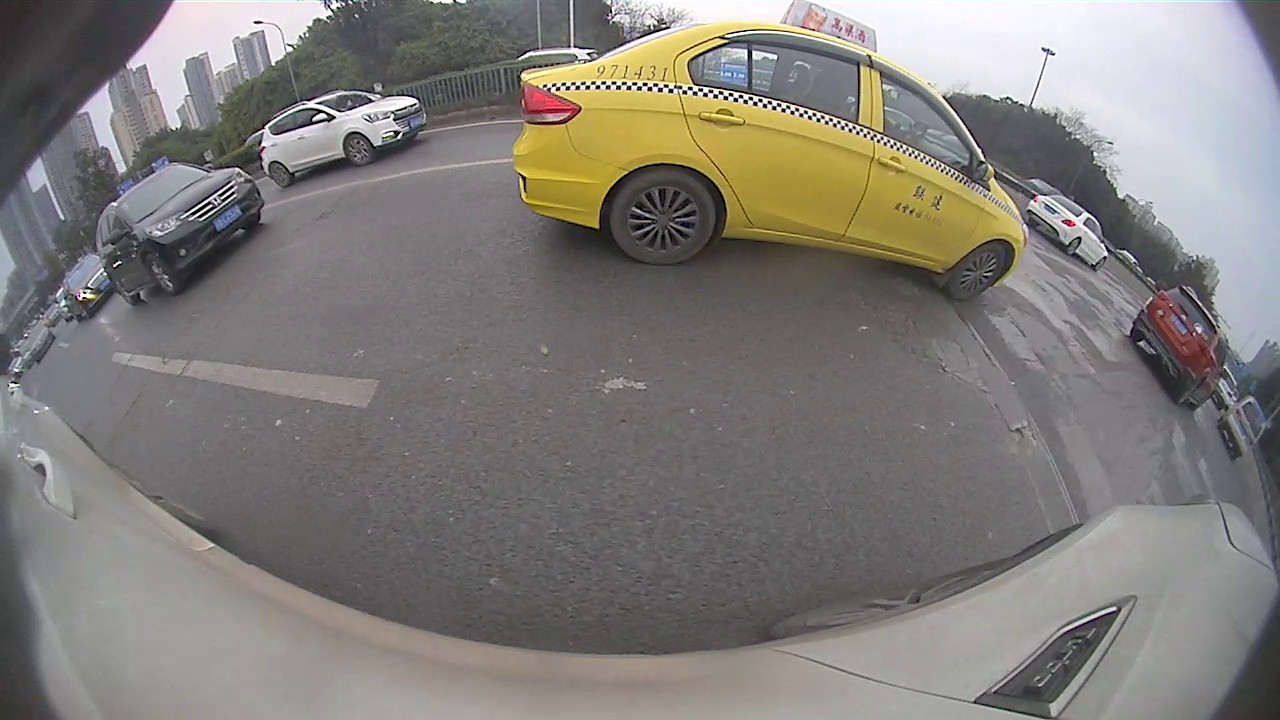car: (511, 2, 1029, 302), (94, 162, 265, 308), (255, 88, 428, 189), (1129, 284, 1226, 413), (1026, 194, 1109, 271), (60, 256, 118, 322), (1221, 394, 1266, 458)
front: (943, 242, 1006, 302), (147, 255, 178, 295), (342, 131, 375, 168), (1093, 257, 1107, 273)
rear: (609, 168, 718, 266), (114, 276, 139, 307), (268, 162, 292, 190), (1064, 238, 1082, 257)
